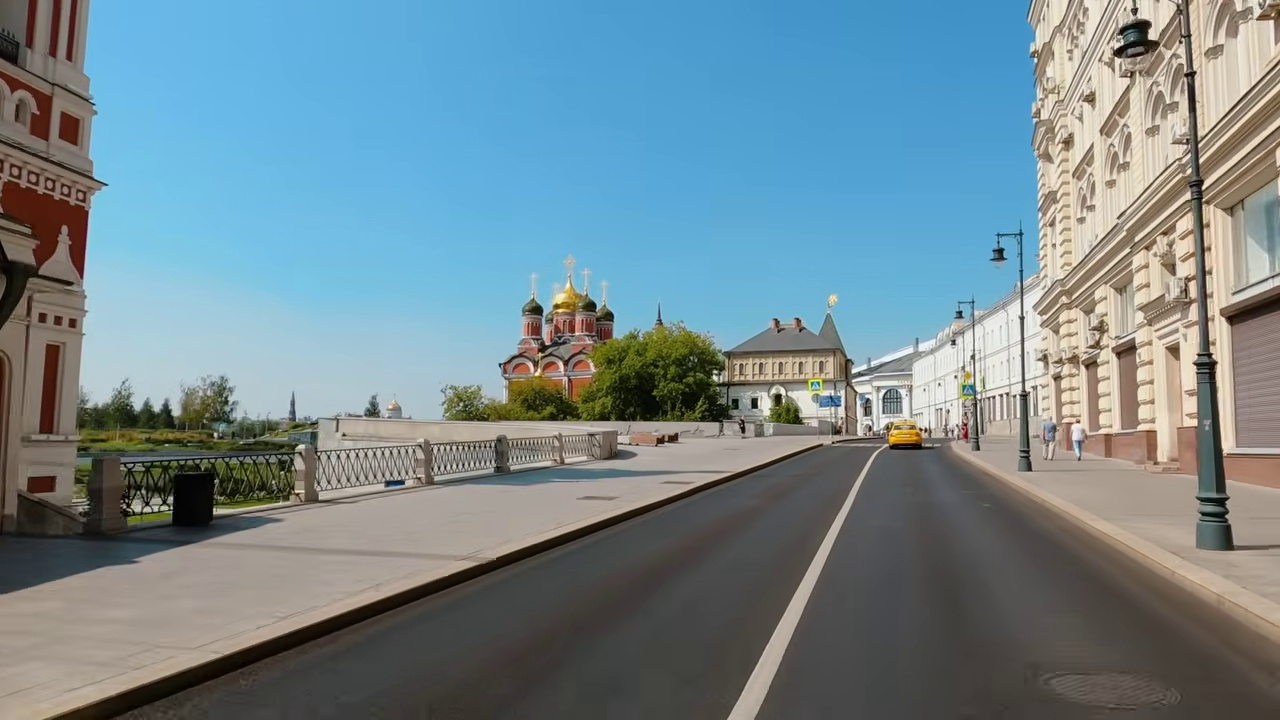apagada: (1107, 32, 1153, 80), (985, 246, 1011, 270)
